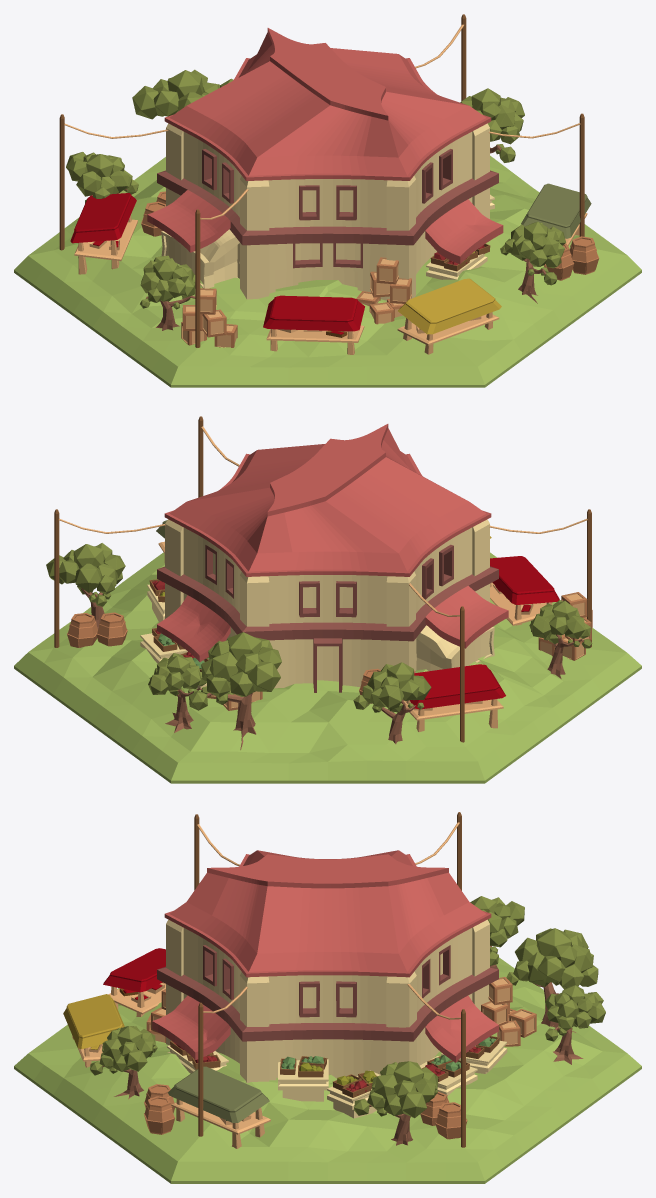
Rendered from market.glb.
The picture shows the model from 3 angles, top to bottom: view 1: azimuth 30°, elevation 25°; view 2: azimuth 150°, elevation 25°; view 3: azimuth 270°, elevation 25°; orthographic projection.
Visible parts, largest first — view 1: market; view 2: market; view 3: market.
Part boxes in pixels (<box>): market: <box>14,14,641,387</box>; market: <box>14,416,641,783</box>; market: <box>14,812,641,1183</box>.
Size of the model in its own units: 1.74 by 0.7066 by 2.
